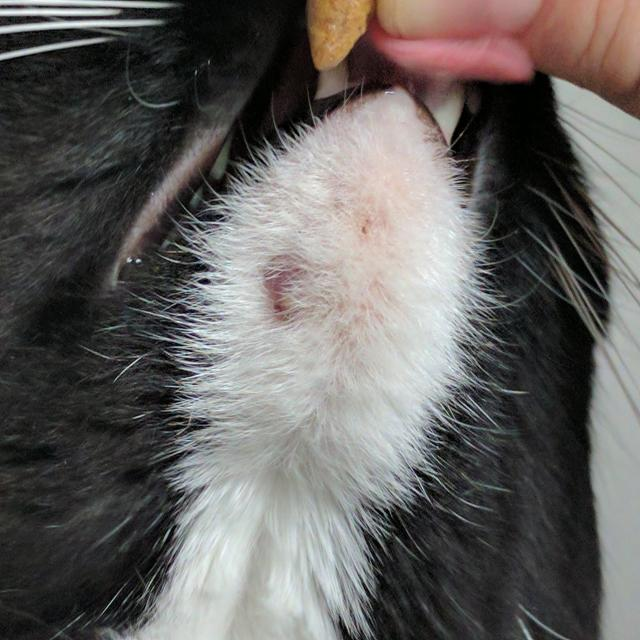cat-lump-and-bump: (258, 245, 324, 328)
